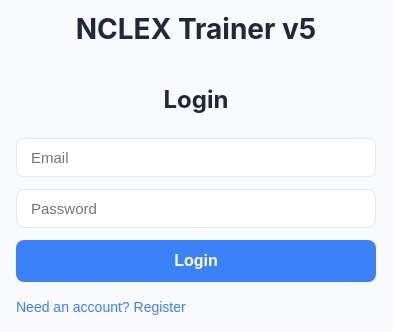
Test case: App › toggles between login and register
Expected: the field with placeholder "Email" is shown, [16,138,376,177]
Click the button "Need an account? Register".
click(101, 307)  # box [16,299,186,315]
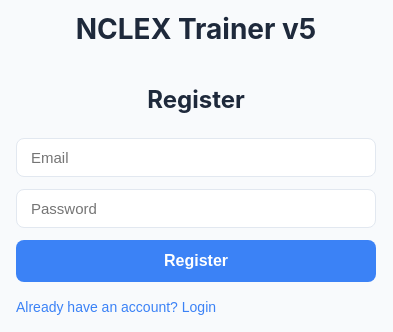
Now the heading "Register" is shown, box [147,85,245,114]
